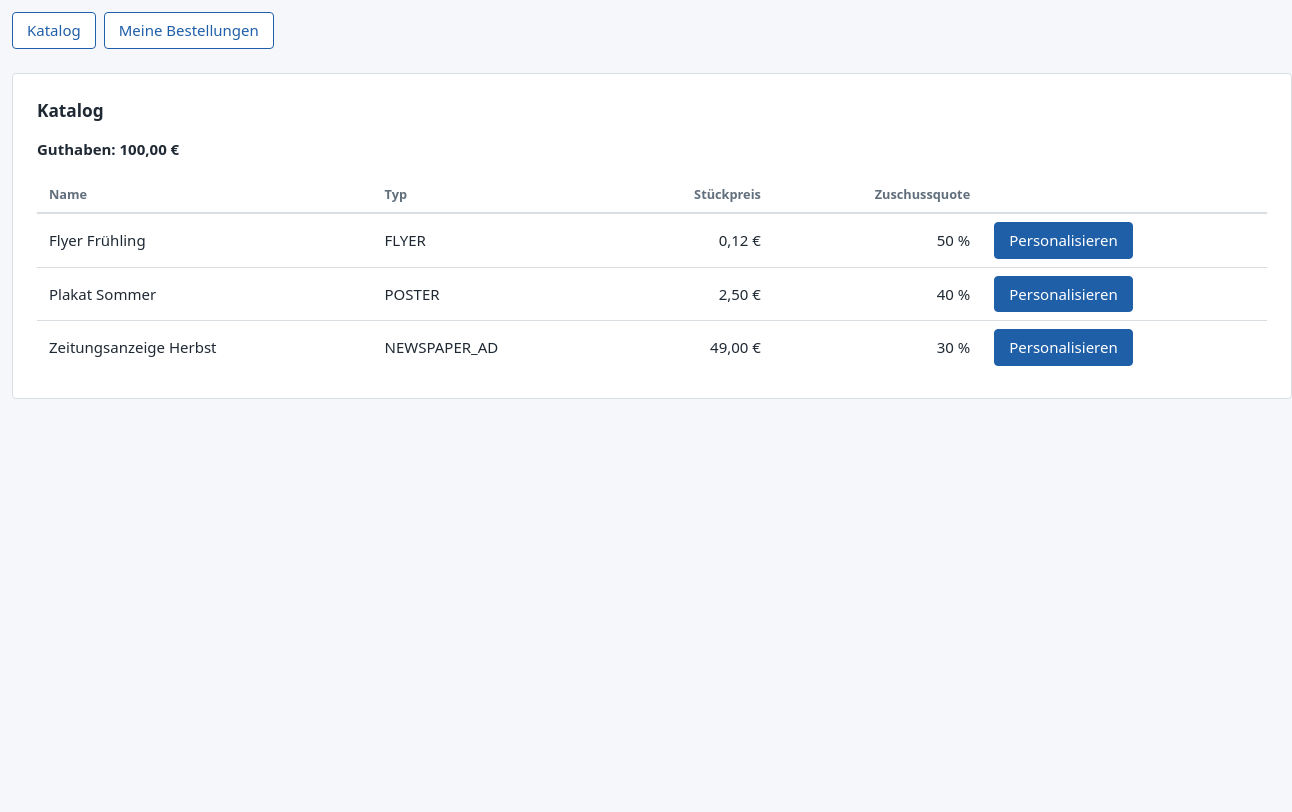
Test: PartnerPage › ui6_successfulOrderShowsNewOrderUnderMyOrders
This screenshot has width=1292, height=812.
Click the button "Personalisieren" in the row of "Flyer Frühling": (1064, 240) [994,222,1133,258]
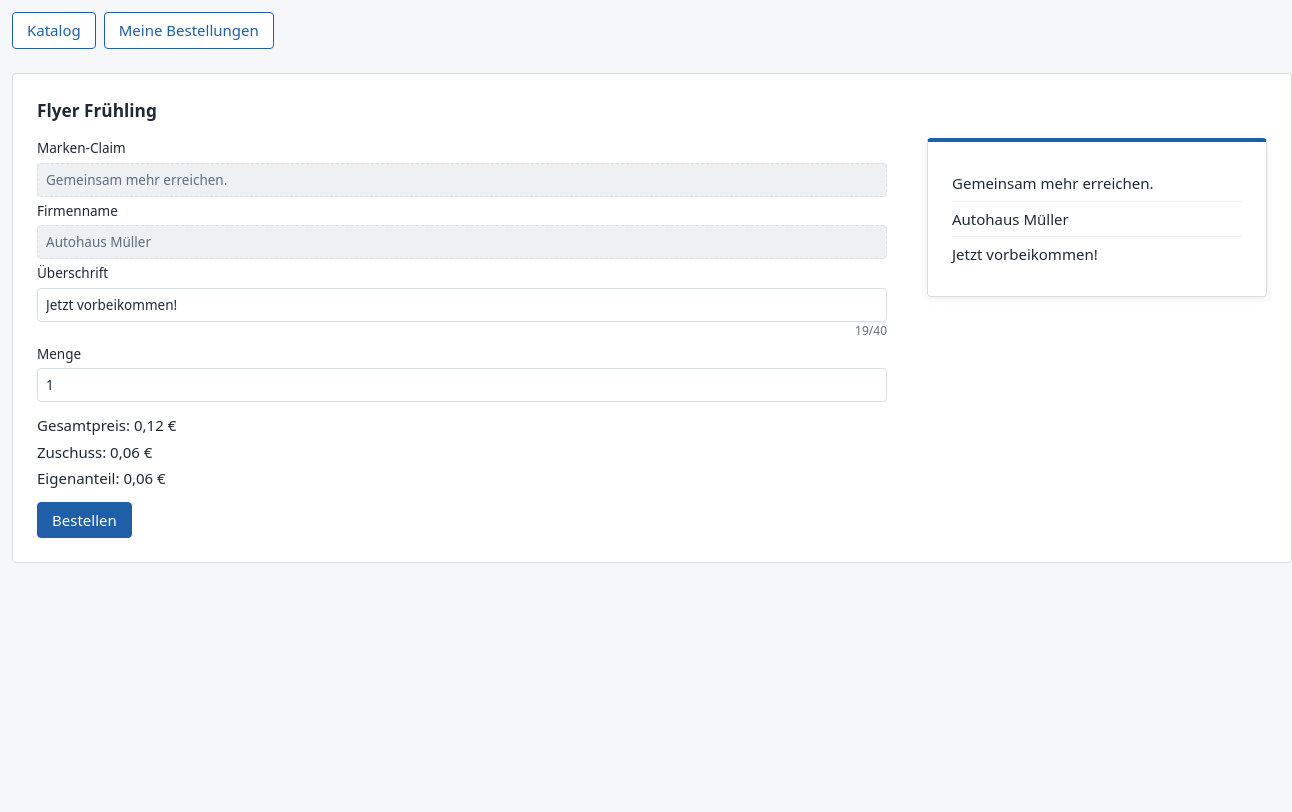
Replace the text in the number field labelled "Menge" with "500": (462, 385) [37,368,887,402]
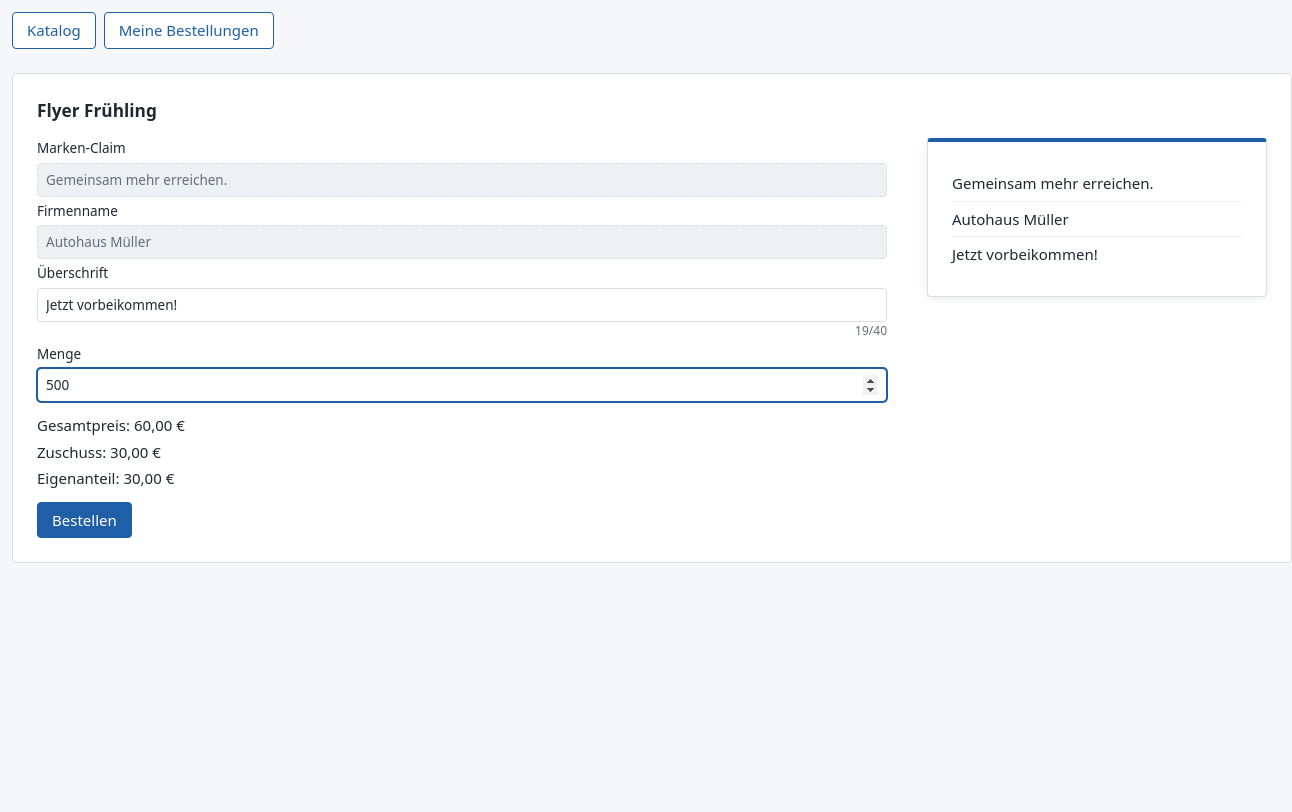
Click the button "Bestellen": (84, 520) [37,502,132,538]
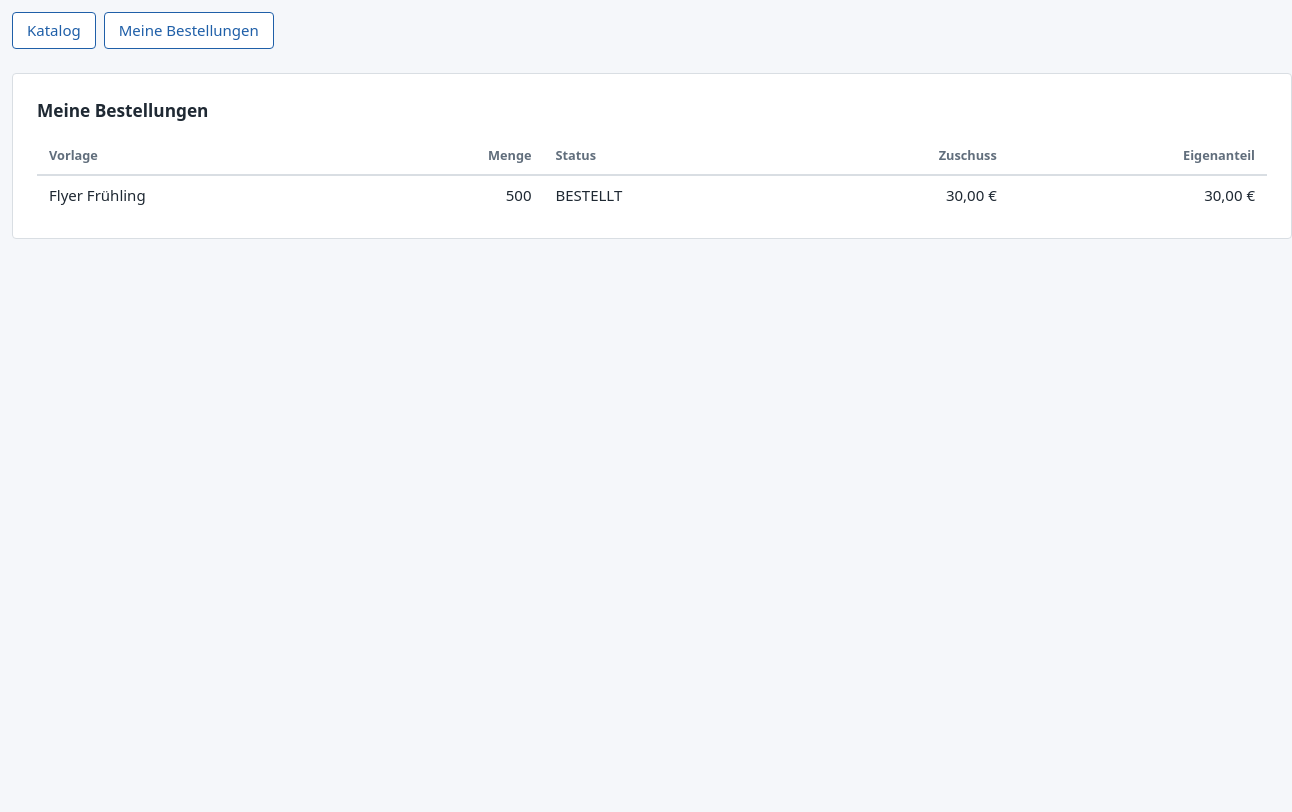
Expected: the heading "Meine Bestellungen" is shown, [37,98,208,122]
Expected: the cells read "Flyer Frühling", "500", "BESTELLT", "30,00 €", "30,00 €", in this order, [37,174,362,214]; [362,174,544,214]; [544,174,788,214]; [788,174,1009,214]; [1009,174,1267,214]
